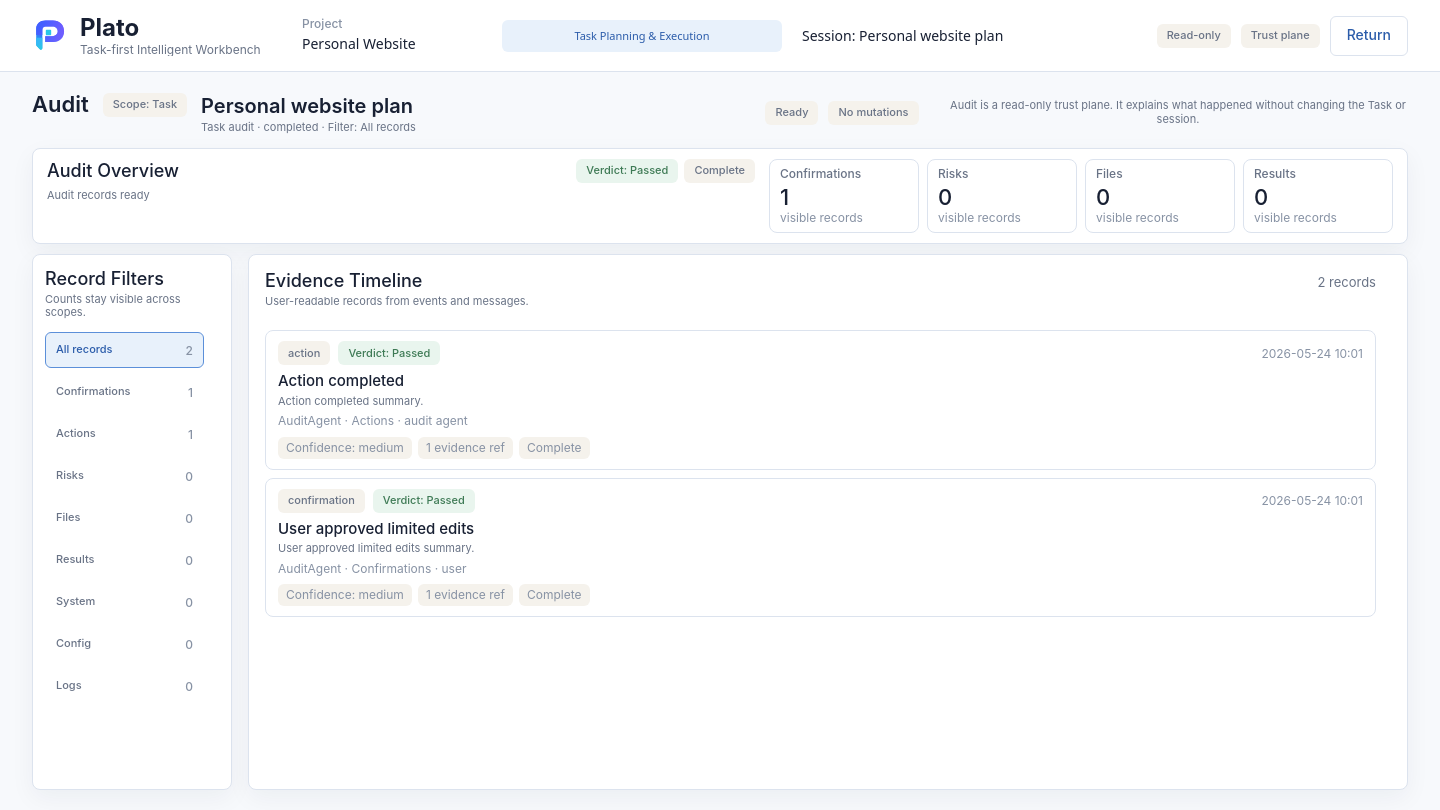
it: AuditPageRoute › clicking a filter updates local state and route query
Click the button "Confirmations 1".
click(124, 392)  # box [45,374,204,410]
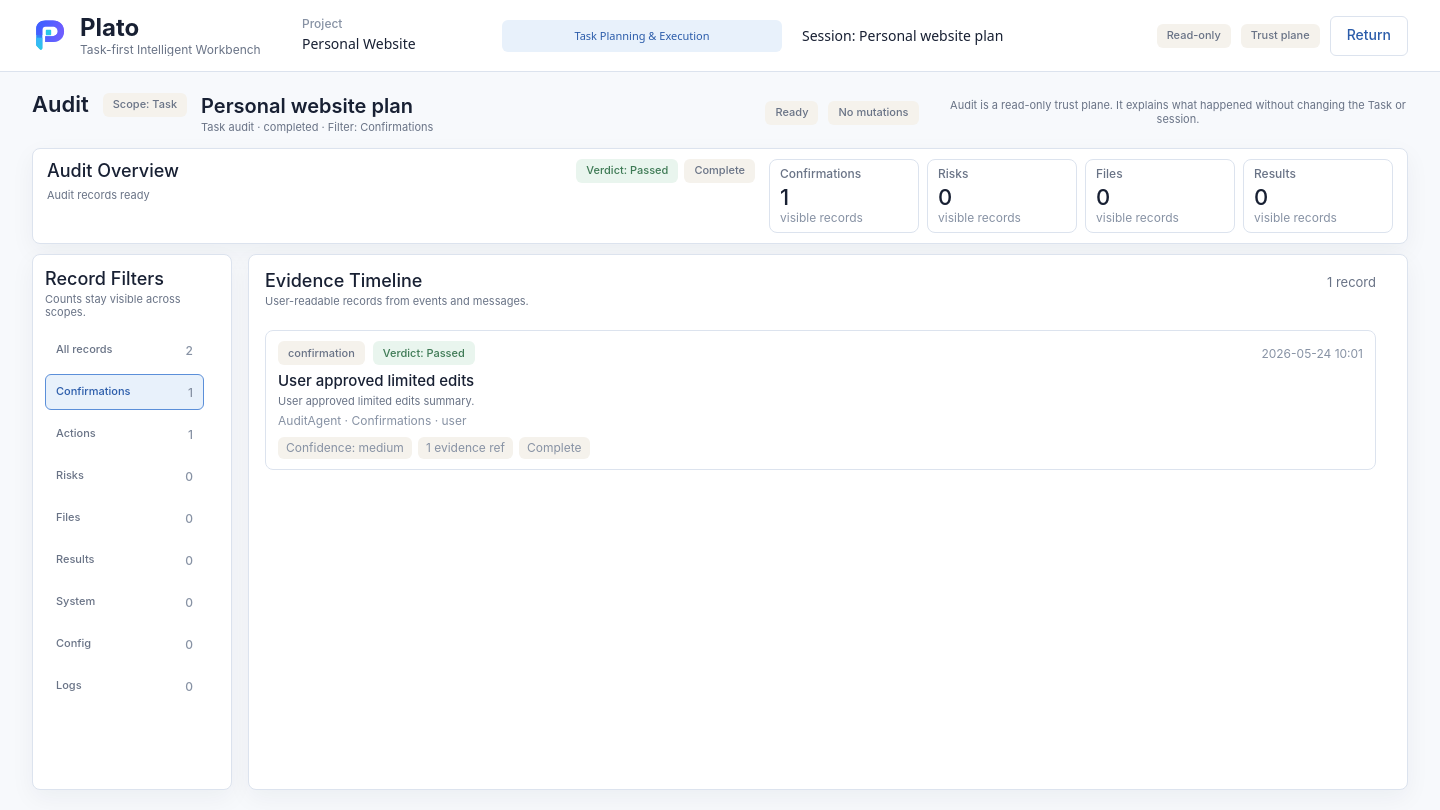
Check: the heading "User approved limited edits" is shown, box [278,371,474,390]
Check: the button "Action completed" is gone
